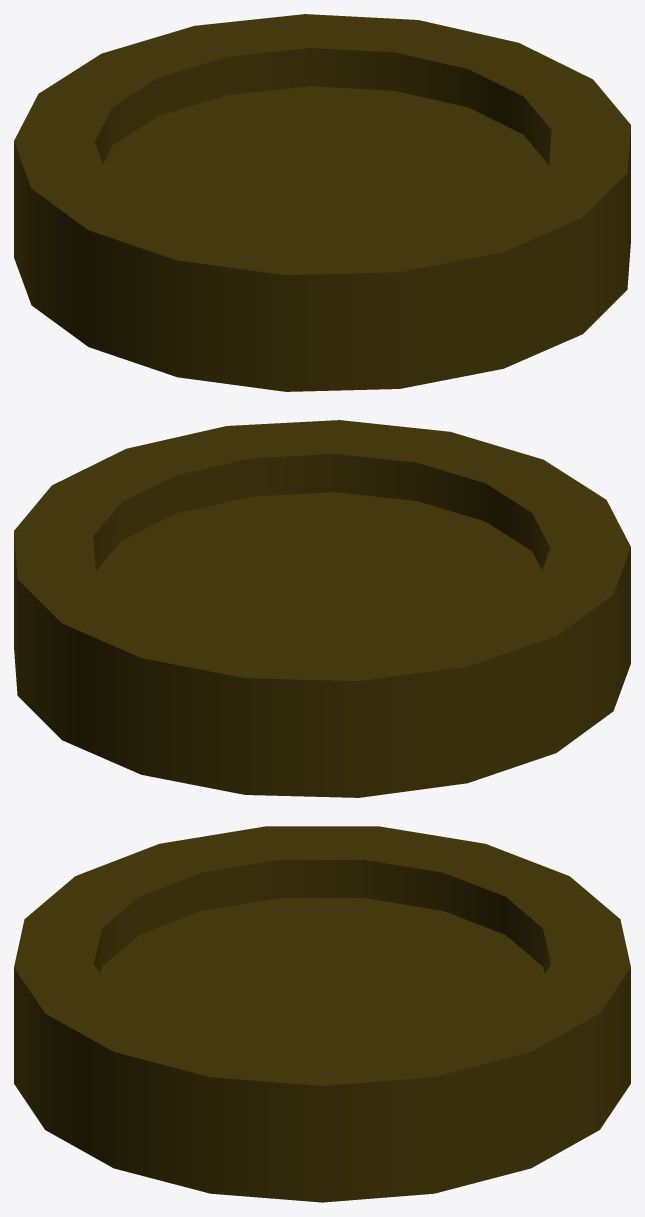
Rendered from treasure_chest_A_coin_D.fbx.
3 views of the same model, one above another, from view 1: azimuth 30°, elevation 25°; view 2: azimuth 150°, elevation 25°; view 3: azimuth 270°, elevation 25° (orthographic).
Parts seen in each view (by area): view 1: treasure_chest_A_coin_D; view 2: treasure_chest_A_coin_D; view 3: treasure_chest_A_coin_D.
Part boxes in pixels (left/top/right/bottom): treasure_chest_A_coin_D: left=14, top=14, right=630, bottom=391; treasure_chest_A_coin_D: left=14, top=420, right=630, bottom=797; treasure_chest_A_coin_D: left=14, top=826, right=630, bottom=1202.
Size of the model in its own units: 8.33 by 1.74 by 8.36.
